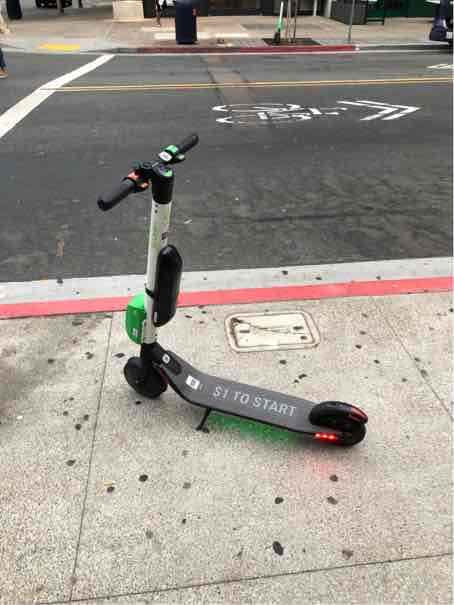scooter: (102, 123, 375, 457)
